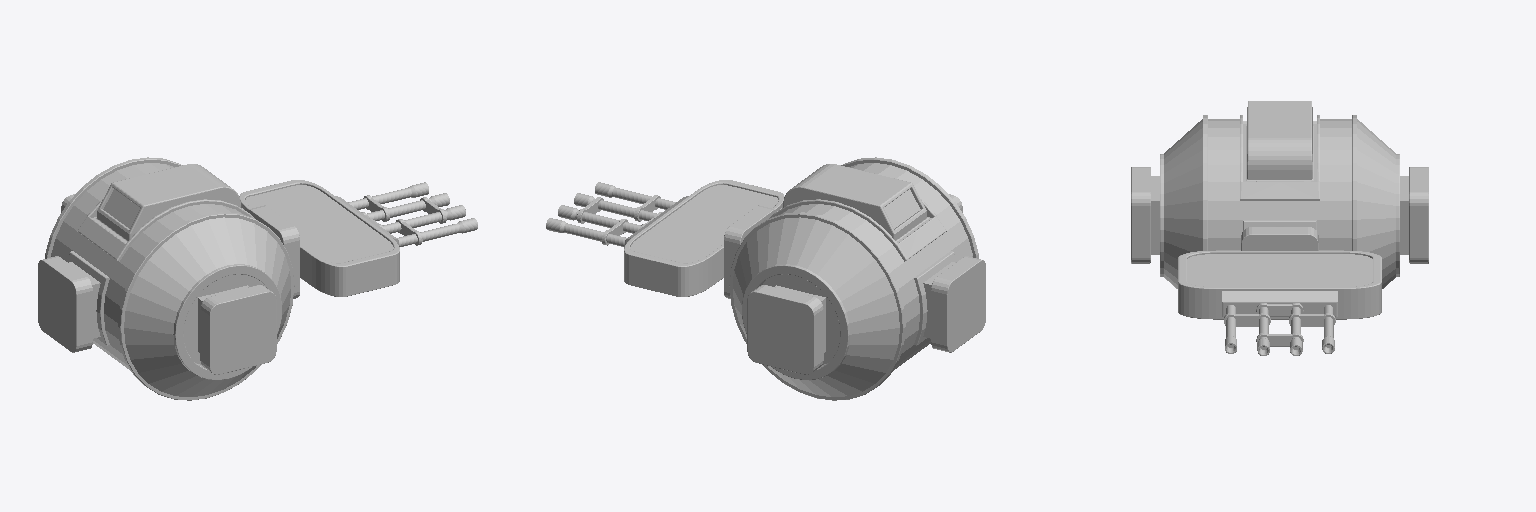
The model's file is shotgun.obj.
3 renders of one model, left to right at view 1: azimuth 30°, elevation 25°; view 2: azimuth 150°, elevation 25°; view 3: azimuth 270°, elevation 25°, orthographic.
Parts seen in each view (by area): view 1: Cylinder.004; view 2: Cylinder.004; view 3: Cylinder.004.
Part boxes in pixels (x1,y1,x2,y2): Cylinder.004: (38,157,477,400); Cylinder.004: (546,157,985,400); Cylinder.004: (1131,101,1428,355).
Bounding box in the file's own units: 2.38 × 1.06 × 1.54.